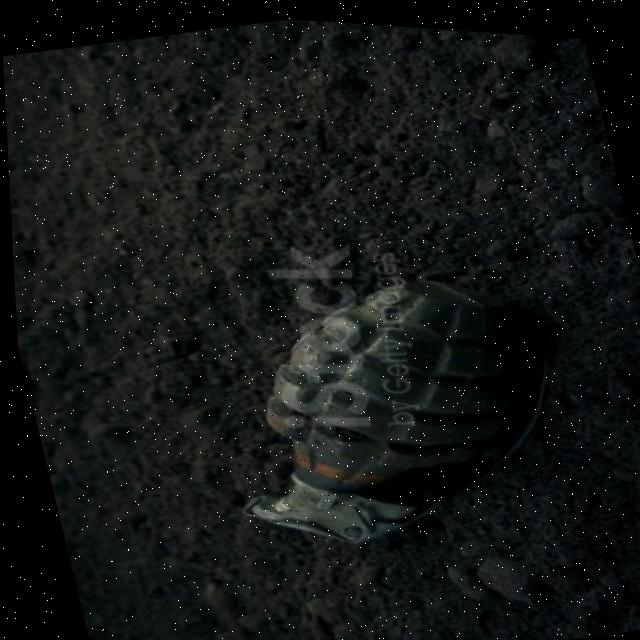grenade: (173, 209, 614, 605)
